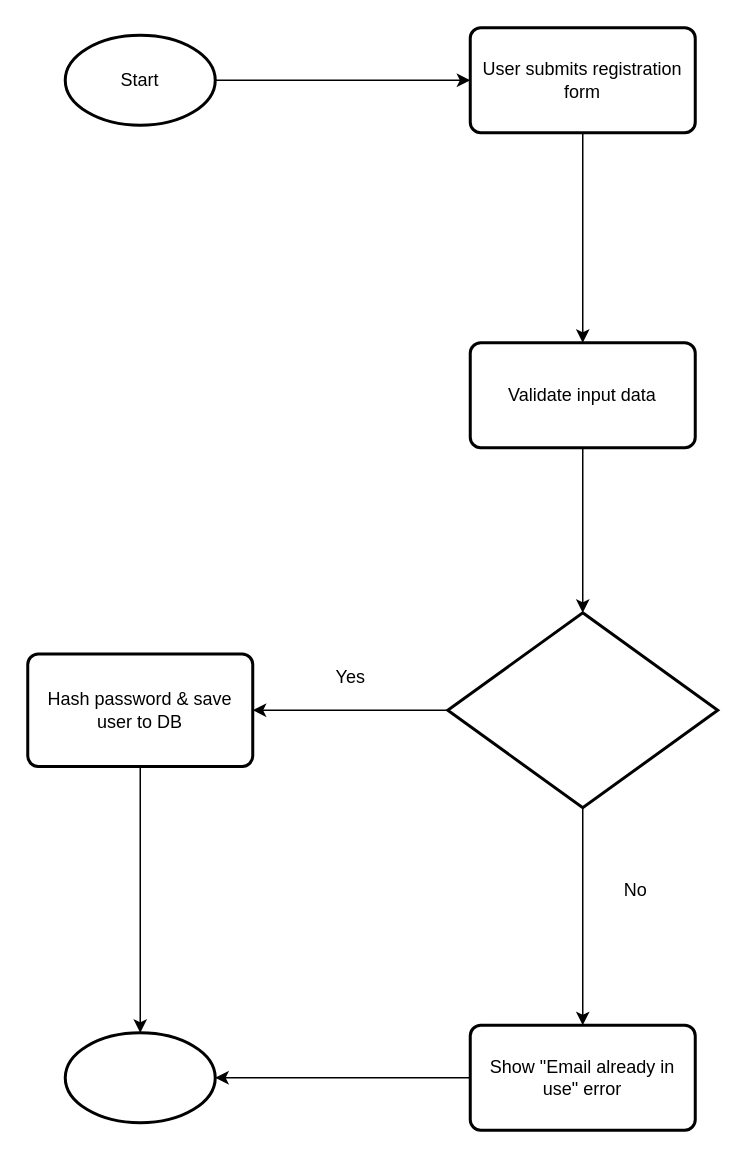
This 744x1157 diagram has some shape labels left out. Here are the shapes that lost their labels. From the top down, the centre of each, then its label:
At pixel 582 709: "Is email already registered?".
At pixel 139 1077: "End".
